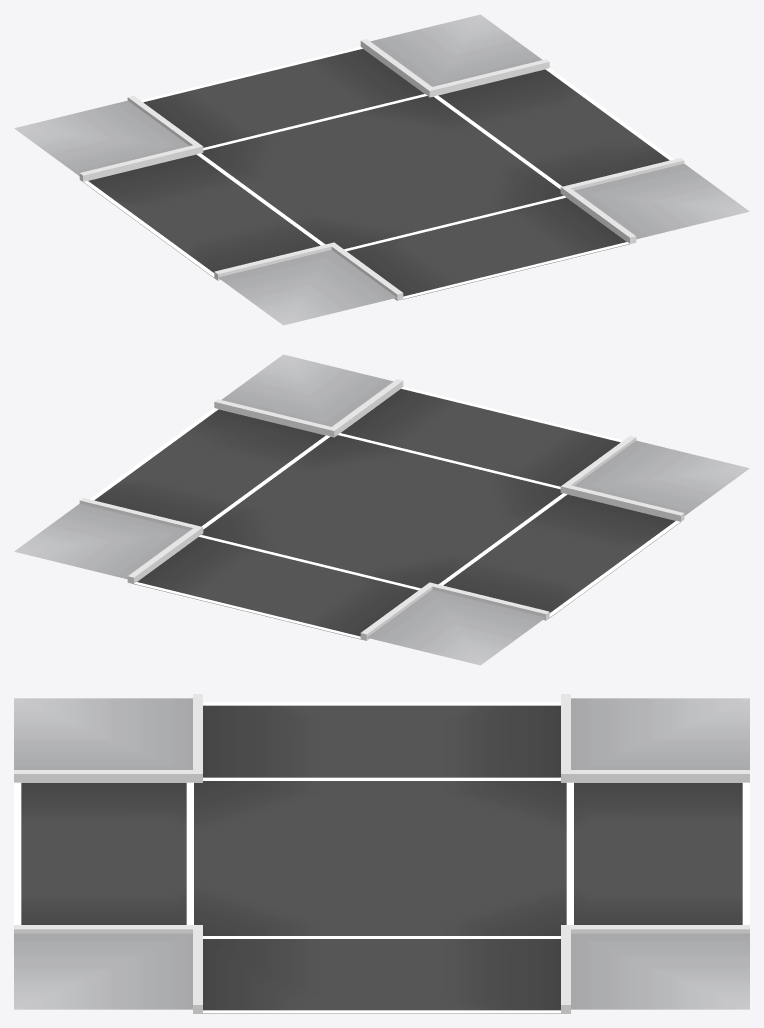
The model's file is city2-road-012.glb.
3 views of the same model, one above another, from view 1: azimuth 30°, elevation 25°; view 2: azimuth 150°, elevation 25°; view 3: azimuth 270°, elevation 25° (orthographic). The views are drawn at different scales.
Parts seen in each view (by area): view 1: road_012; view 2: road_012; view 3: road_012.
Part boxes in pixels (x1,y1,x2,y2): road_012: (14,14,749,325); road_012: (14,354,749,665); road_012: (14,694,749,1013).
Bounding box in the file's own units: 15 × 0.2 × 15.
1 material, 1 textured.
